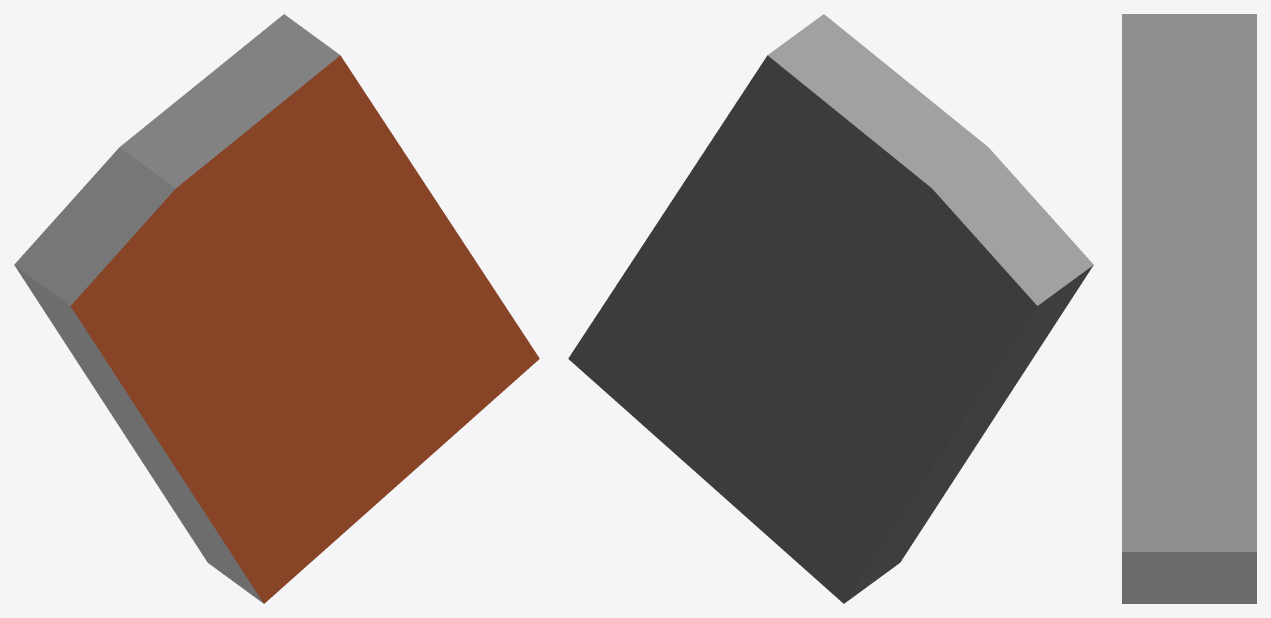
File: construction_4701_assumed_A_Casa_h6m.obj
The picture shows the model from 3 angles, left to right: view 1: azimuth 30°, elevation 25°; view 2: azimuth 150°, elevation 25°; view 3: azimuth 270°, elevation 25°; orthographic projection. The views are drawn at different scales.
Parts seen in each view (by area): view 1: construction_4701_assumed_A_Casa; view 2: construction_4701_assumed_A_Casa; view 3: construction_4701_assumed_A_Casa.
Part boxes in pixels (box(x1,y1,x2,y2)): construction_4701_assumed_A_Casa: box(14, 14, 539, 603); construction_4701_assumed_A_Casa: box(568, 14, 1093, 603); construction_4701_assumed_A_Casa: box(1122, 14, 1256, 603).
Size of the model in its own units: 28.84 by 31.12 by 6.
